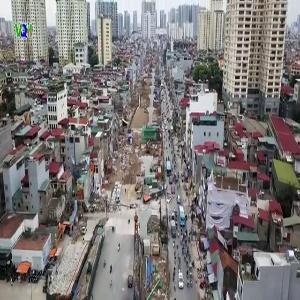drone: (55, 156, 93, 194)
